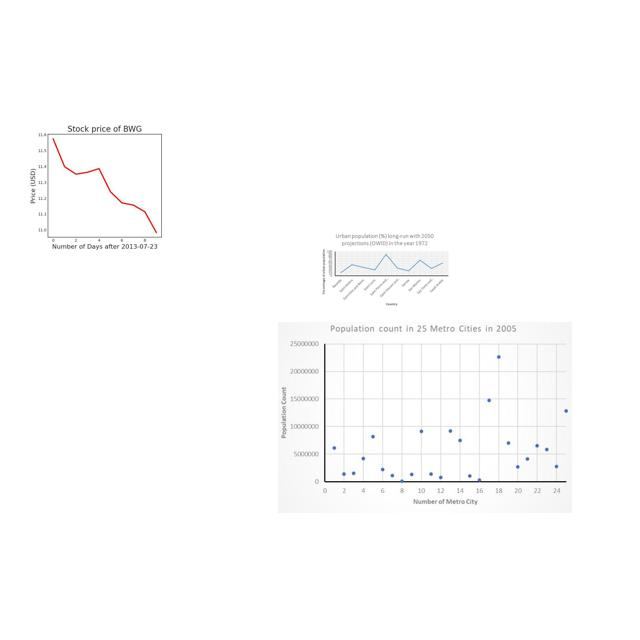Graph: (278, 322, 572, 513), (13, 118, 192, 252), (320, 232, 450, 308)
